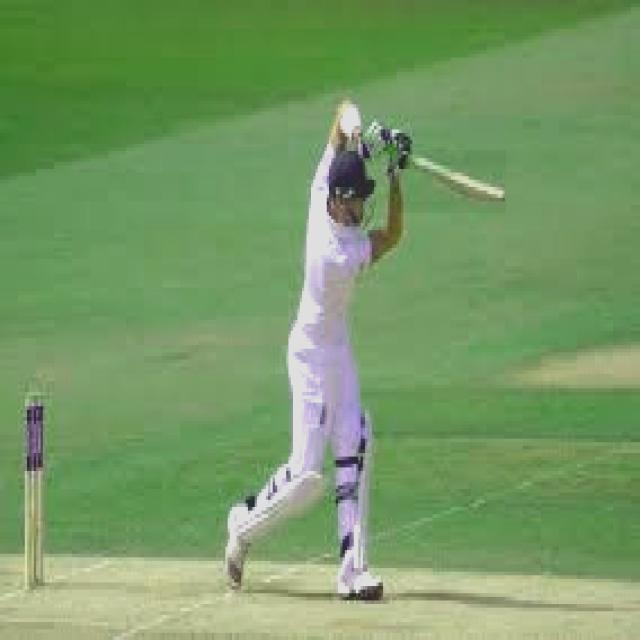bat: (400, 150, 509, 212)
toe: (490, 188, 511, 210)
